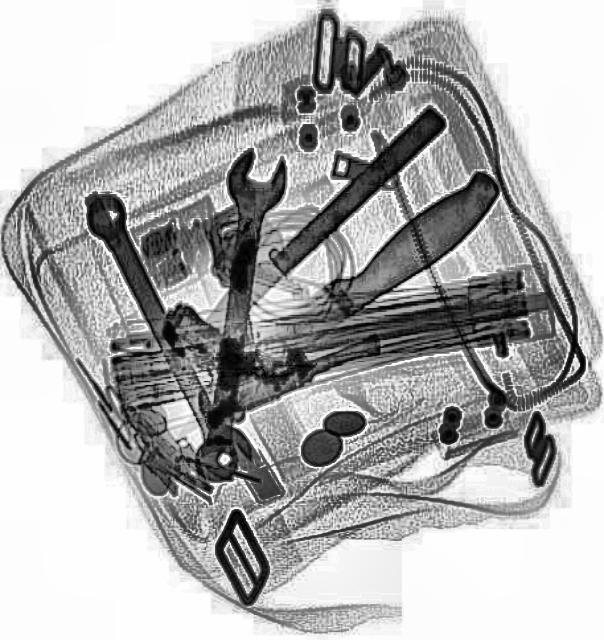Gun: (152, 233, 382, 431)
Knife: (160, 162, 510, 452), (150, 104, 449, 380)
Wrench: (72, 185, 260, 489), (182, 144, 290, 482)
